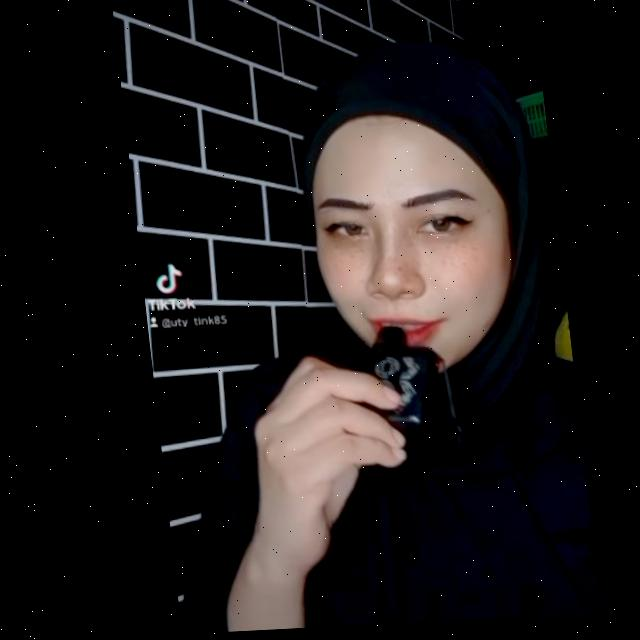vape: (344, 329, 432, 441)
